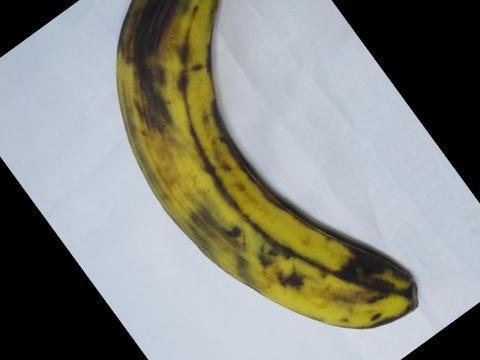overripe: (92, 0, 423, 334)
